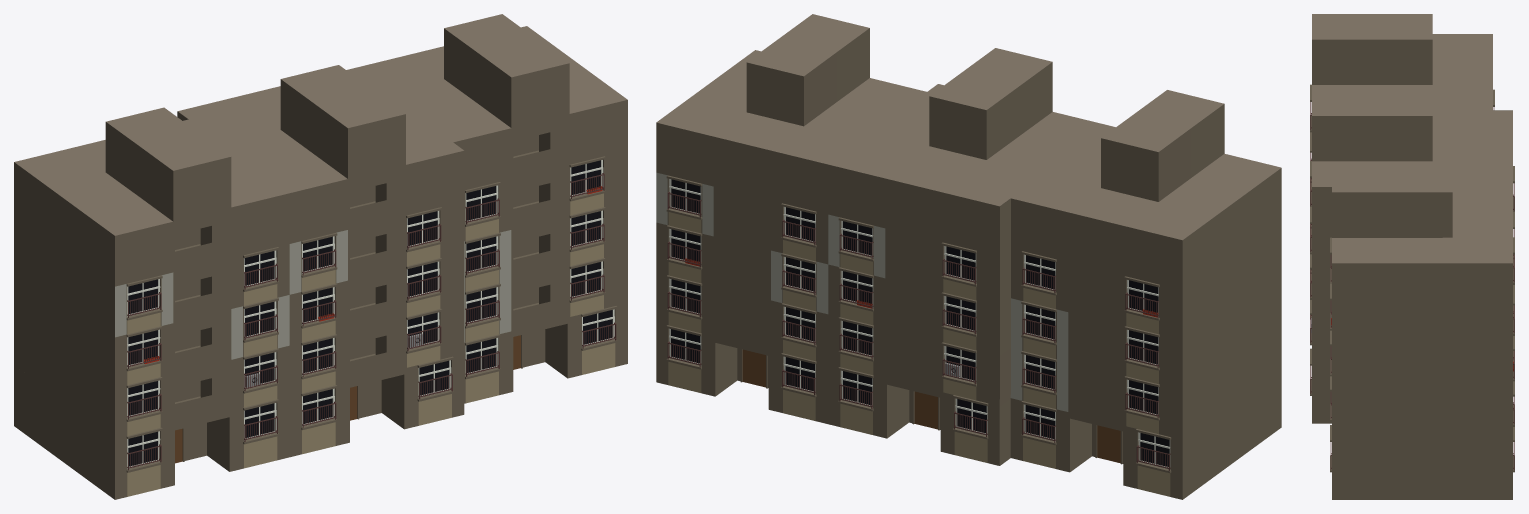
Rendered from Appartment.fbx.
3 views of the same model, side by side, from view 1: azimuth 30°, elevation 25°; view 2: azimuth 150°, elevation 25°; view 3: azimuth 270°, elevation 25° (orthographic). The views are drawn at different scales.
Parts seen in each view (by area): view 1: Appartment; view 2: Appartment; view 3: Appartment.
Boxes of the visible parts, bbox=[...] form: Appartment: bbox=[14, 14, 627, 499]; Appartment: bbox=[656, 14, 1281, 499]; Appartment: bbox=[1310, 14, 1514, 499].
Size of the model in its own units: 2700 by 1550 by 1020.
